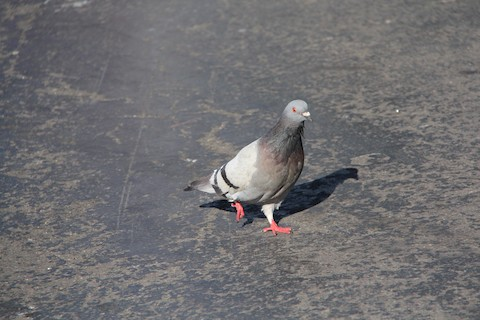pigeon: (181, 97, 316, 238)
